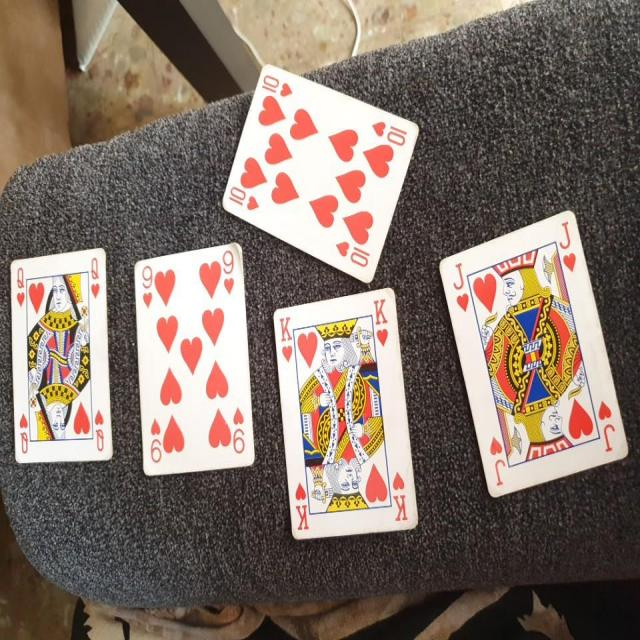10 Hearts: (214, 63, 430, 296)
9 Hearts: (128, 237, 261, 482)
J Hearts: (420, 198, 635, 505)
K Hearts: (267, 280, 427, 547)
Q Hearts: (11, 237, 118, 474)
